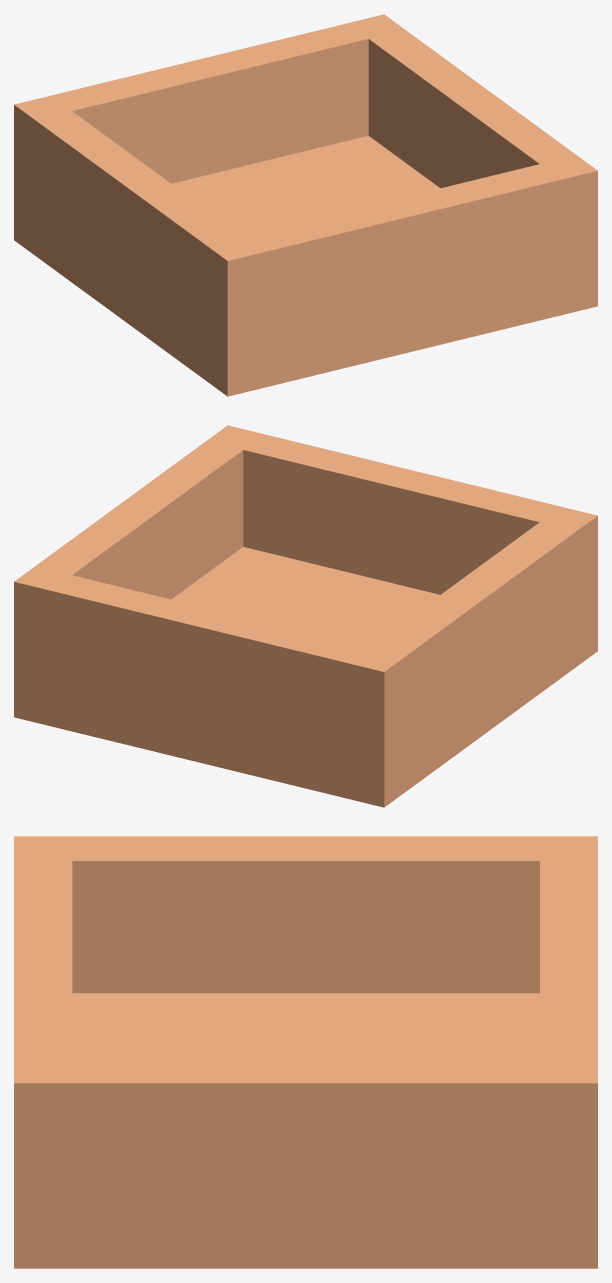
The model's file is BeigeRoof_4Edges_Small.glb.
3 renders of one model, top to bottom at view 1: azimuth 30°, elevation 25°; view 2: azimuth 150°, elevation 25°; view 3: azimuth 270°, elevation 25°, orthographic. The views are drawn at different scales.
Parts seen in each view (by area): view 1: roof_flat_4Edges_small_beige; view 2: roof_flat_4Edges_small_beige; view 3: roof_flat_4Edges_small_beige.
Boxes of the visible parts, x1=… form: roof_flat_4Edges_small_beige: x1=14, y1=14, x2=597, y2=396; roof_flat_4Edges_small_beige: x1=14, y1=425, x2=597, y2=807; roof_flat_4Edges_small_beige: x1=14, y1=836, x2=597, y2=1268.
Bounding box in the file's own units: 2 × 0.7 × 2.
Materials: 1 (1 with a texture image).
